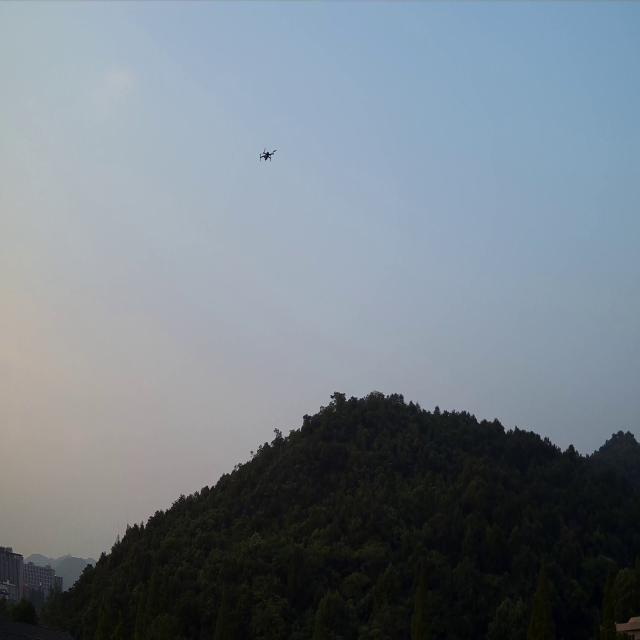UAV: (259, 147, 278, 162)
